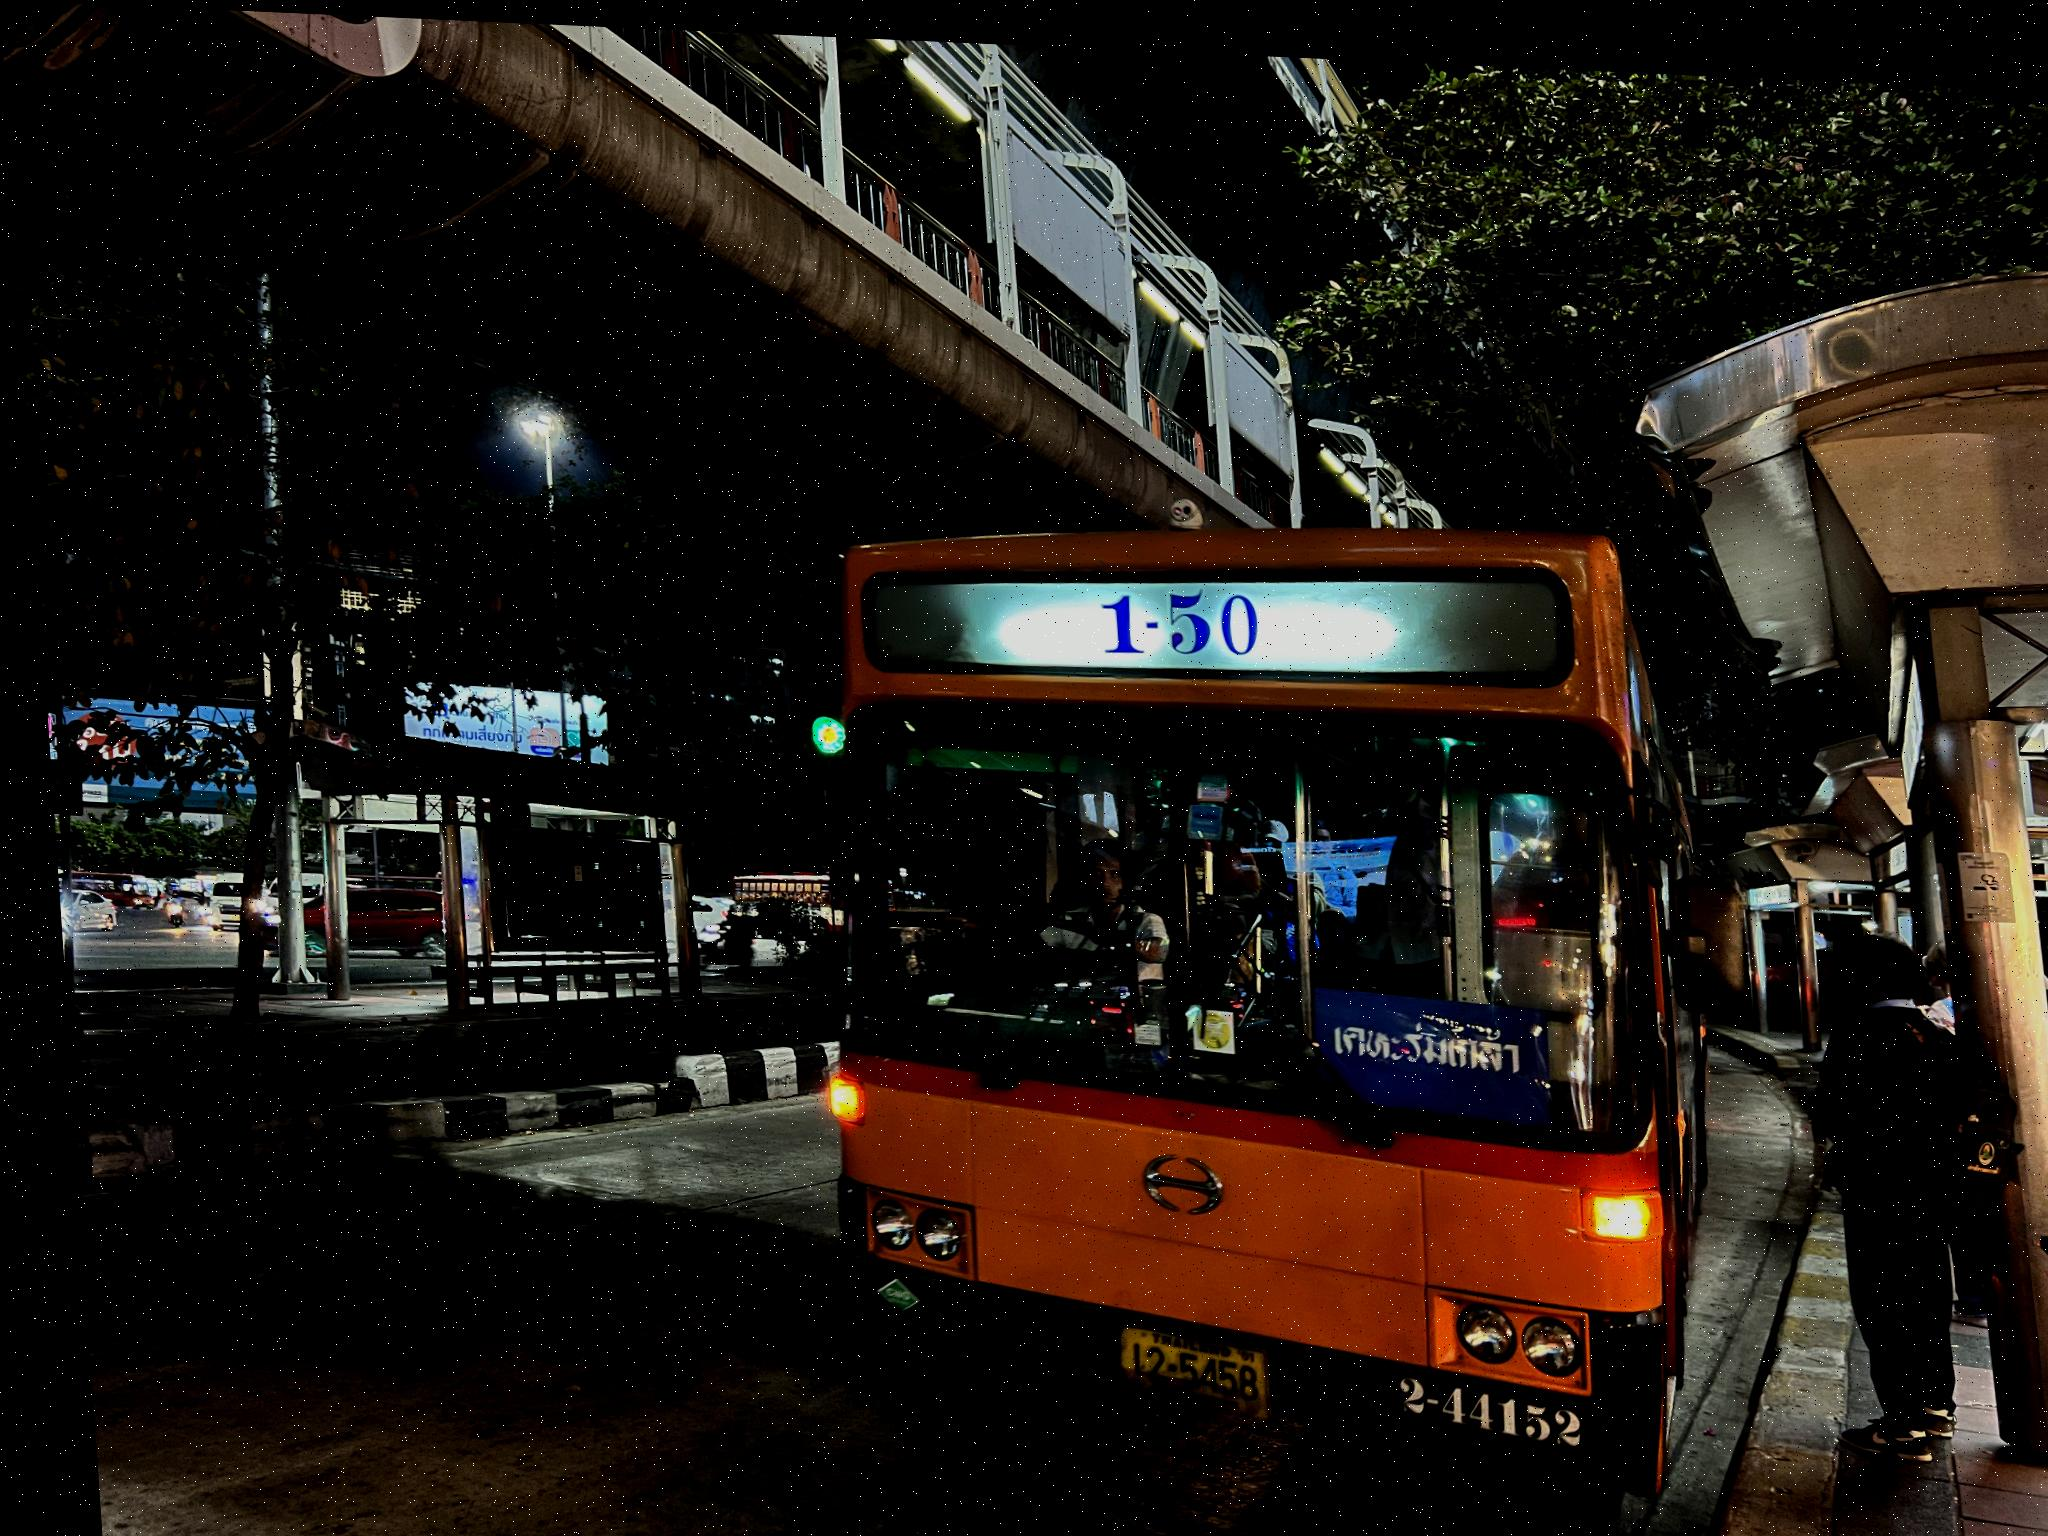BMTA-bus: (810, 516, 1682, 1488)
Bus Line Number: (1068, 574, 1276, 662)
Bus Side Number: (1364, 1363, 1574, 1442)
Destination Sign: (1298, 975, 1535, 1108)
